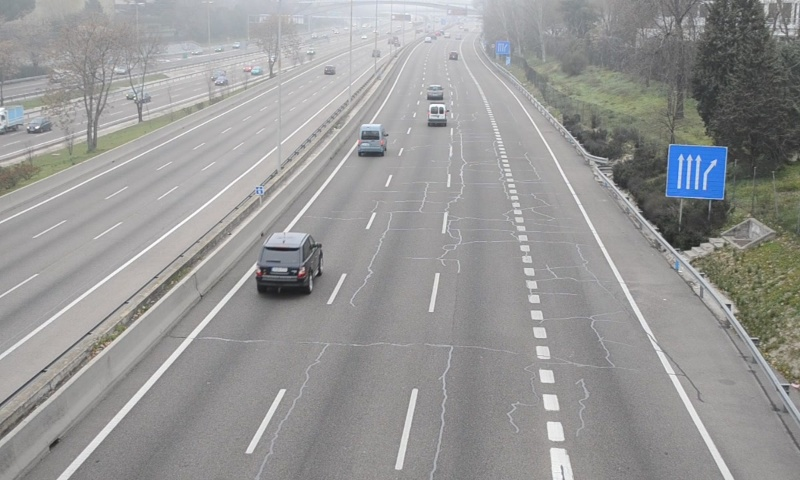car: (258, 232, 323, 289)
van: (358, 123, 386, 155), (427, 102, 446, 126)
